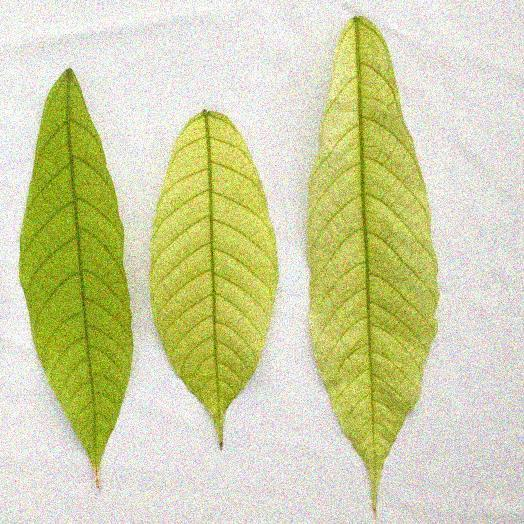Iron: (307, 17, 438, 515), (19, 69, 131, 485), (150, 110, 277, 447)
